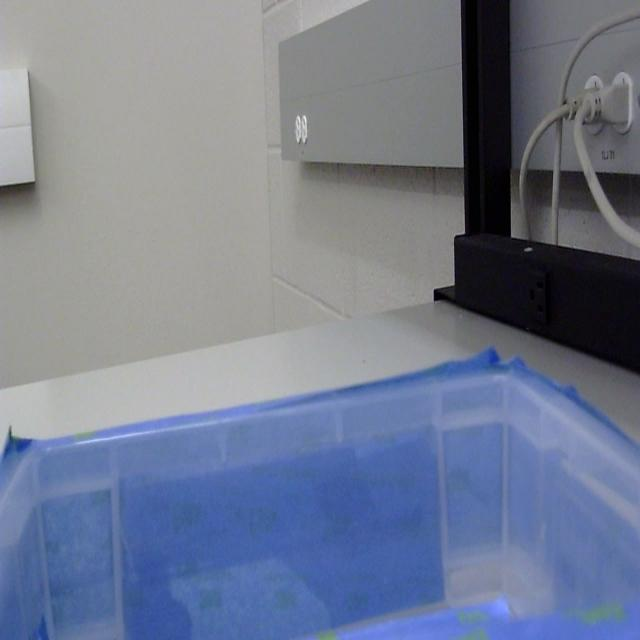bucket: (0, 343, 638, 640)
